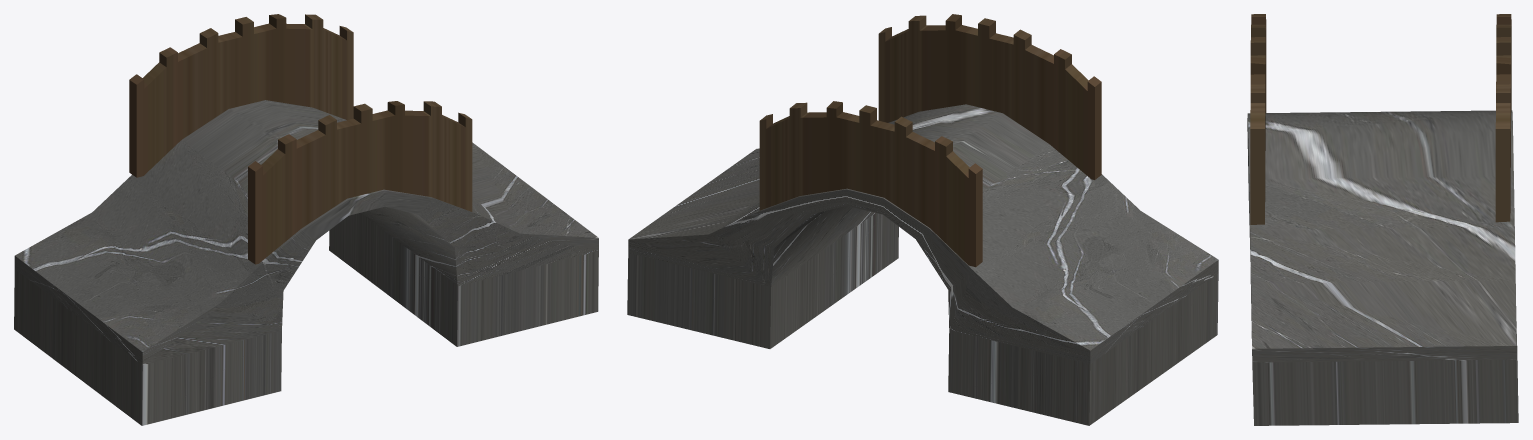
Rendered from bridge.fbx.
The picture shows the model from 3 angles, left to right: view 1: azimuth 30°, elevation 25°; view 2: azimuth 150°, elevation 25°; view 3: azimuth 270°, elevation 25°; orthographic projection. The views are drawn at different scales.
Visible parts, largest first — view 1: polySurface152; view 2: polySurface152; view 3: polySurface152.
Part boxes in pixels (x1,y1,x2,y2): polySurface152: (14,14,598,425); polySurface152: (627,14,1218,425); polySurface152: (1247,14,1518,425).
Bounding box in the file's own units: 6.21 × 3.37 × 3.08.
Materials: 2 (2 with a texture image).
